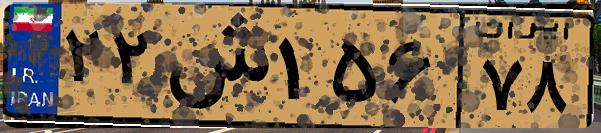1: (270, 28, 330, 110)
2: (57, 26, 110, 100), (110, 28, 158, 98)
5: (330, 28, 385, 110)
6: (385, 28, 445, 110)
7: (475, 38, 525, 113)
8: (525, 38, 570, 115)
ش: (158, 12, 270, 120)
